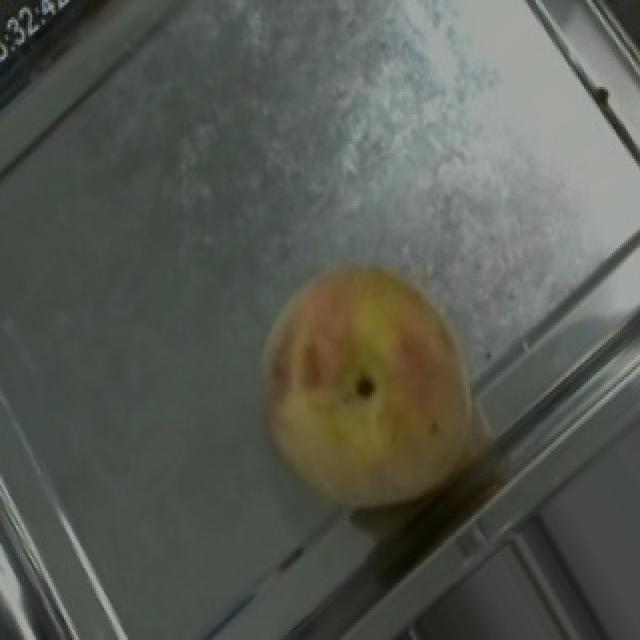Fruit: (208, 223, 528, 551)
